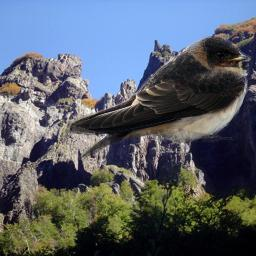Swallow: (68, 35, 251, 160)
